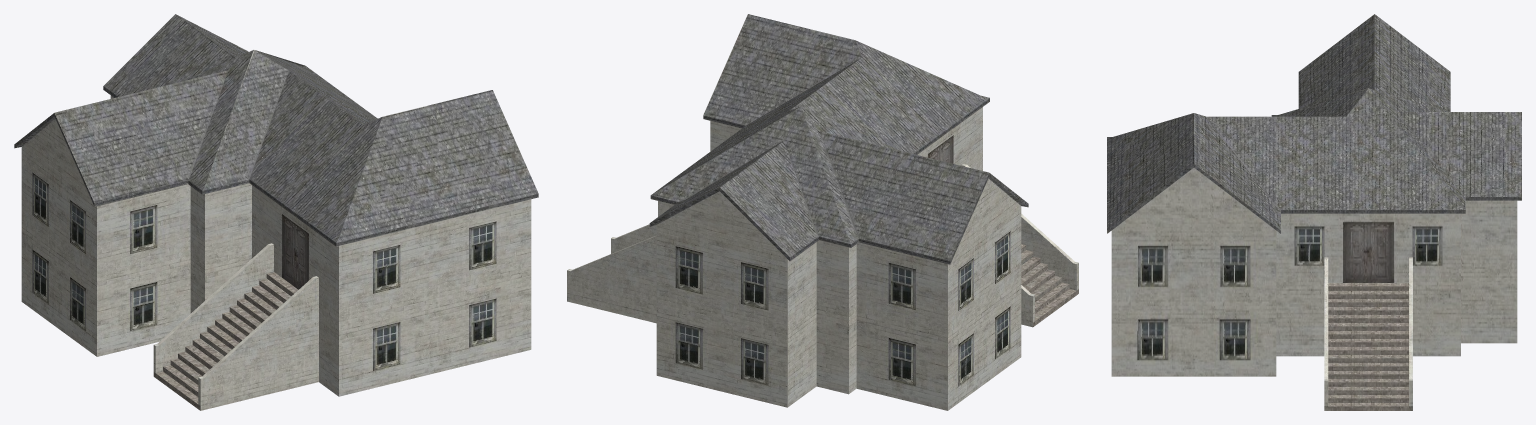
Rendered from house.fbx.
3 views of the same model, side by side, from view 1: azimuth 30°, elevation 25°; view 2: azimuth 150°, elevation 25°; view 3: azimuth 270°, elevation 25° (orthographic). The views are drawn at different scales.
Visible parts, largest first — view 1: PSX Old House; view 2: PSX Old House; view 3: PSX Old House.
Boxes of the visible parts, x1,y1,x2,y2 form: PSX Old House: [14, 14, 538, 410]; PSX Old House: [567, 14, 1078, 410]; PSX Old House: [1107, 14, 1521, 410].
Bounding box in the file's own units: 1116 × 608 × 1026.
